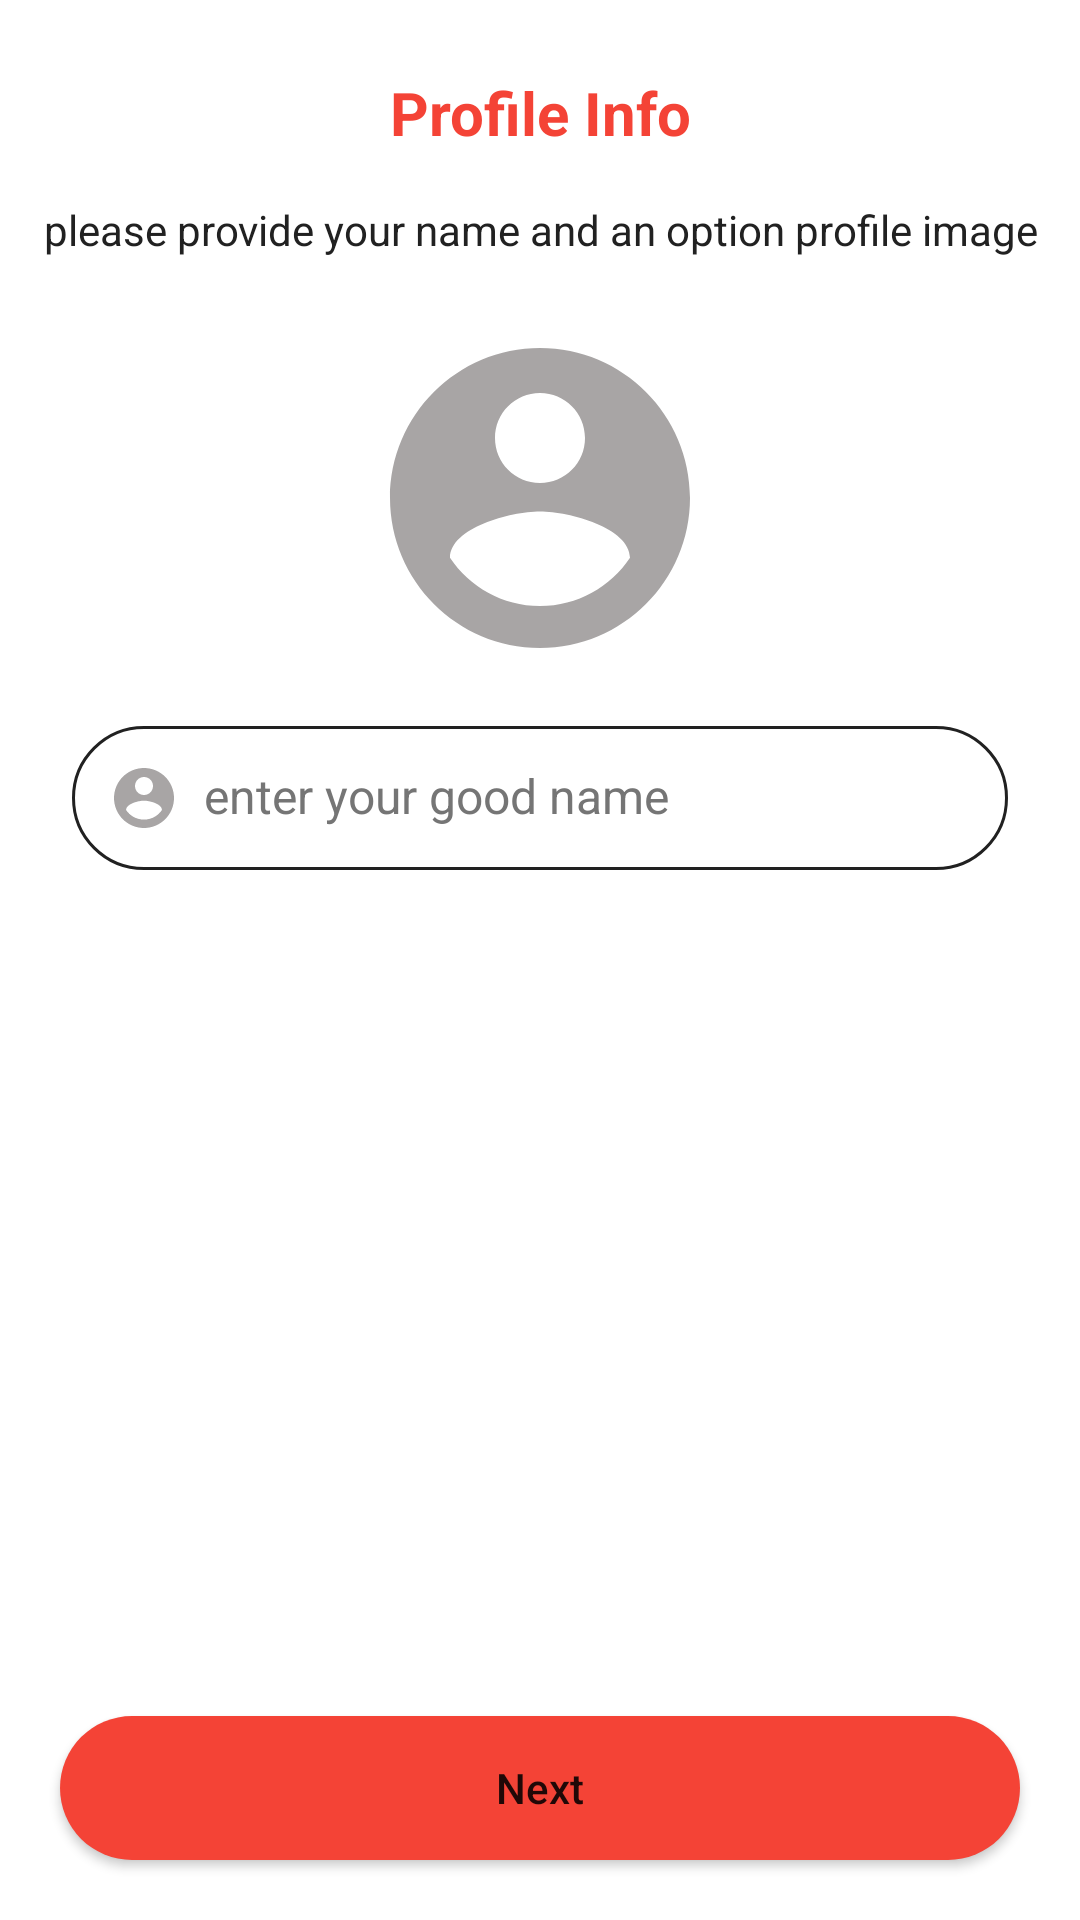

Point at icon controls on the screen. Image size 1080px×1920px, points as point (x, y).
place holder: point (540, 498)
